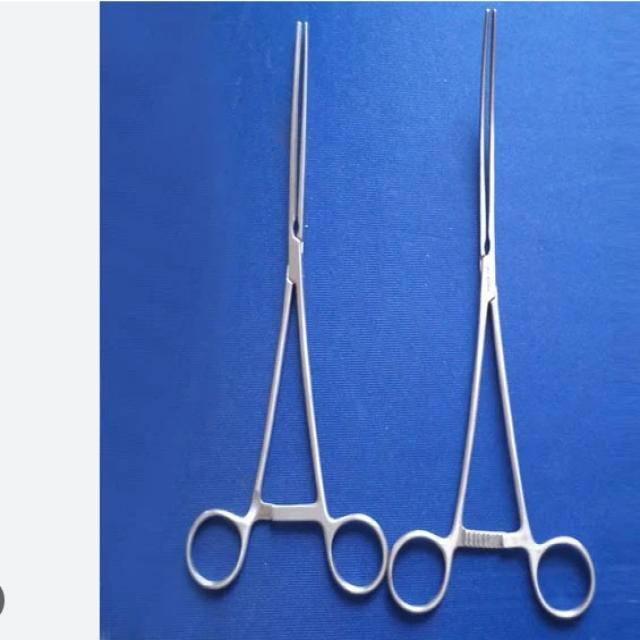Doyel Instestinal Forceps: (389, 5, 597, 622), (180, 14, 390, 596)
